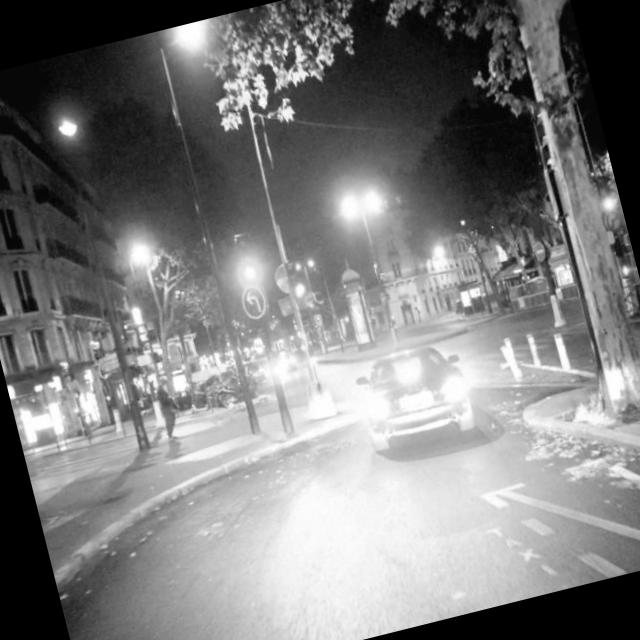Light: (233, 232, 259, 282), (594, 173, 620, 220), (286, 261, 307, 301)
Sign: (238, 283, 269, 321), (270, 262, 290, 296)
Tree: (453, 0, 640, 439)
